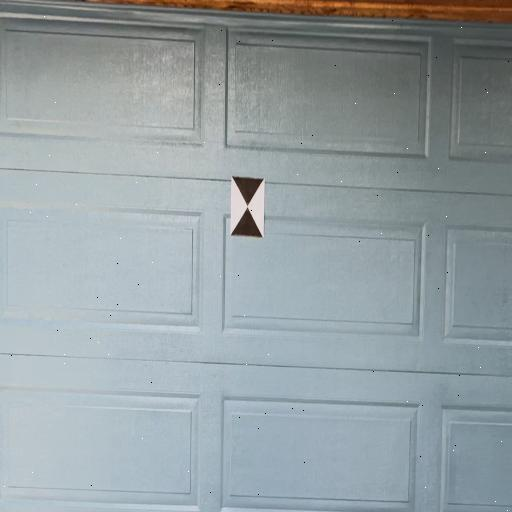target: (232, 178, 264, 238)
